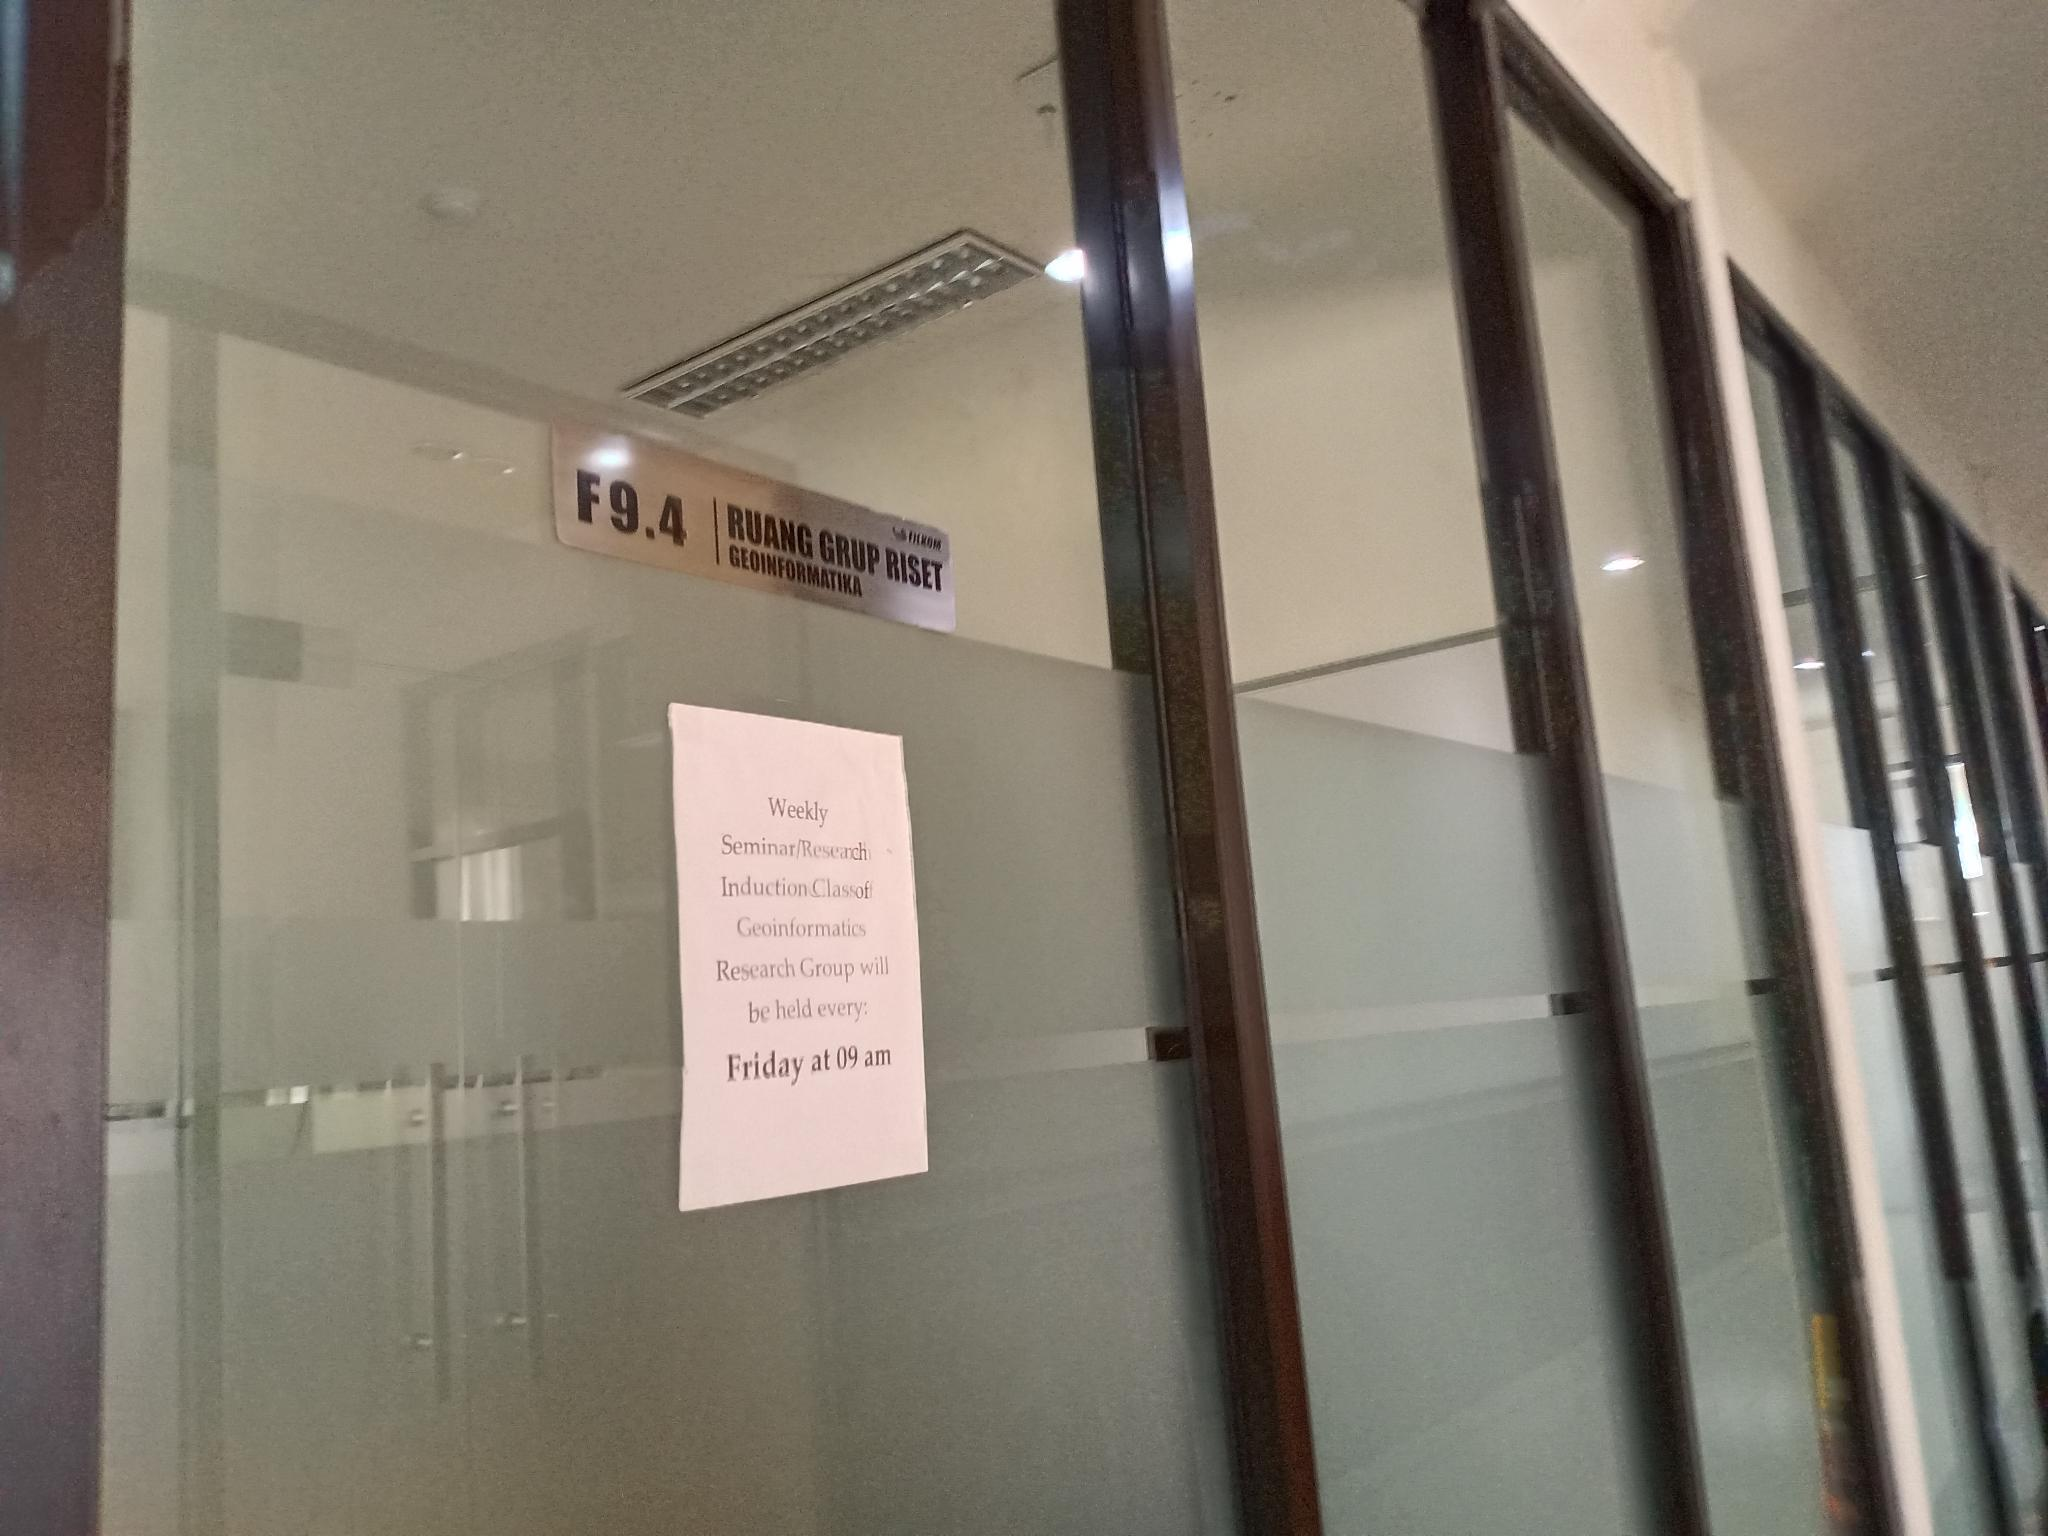plate: (550, 407, 958, 637)
